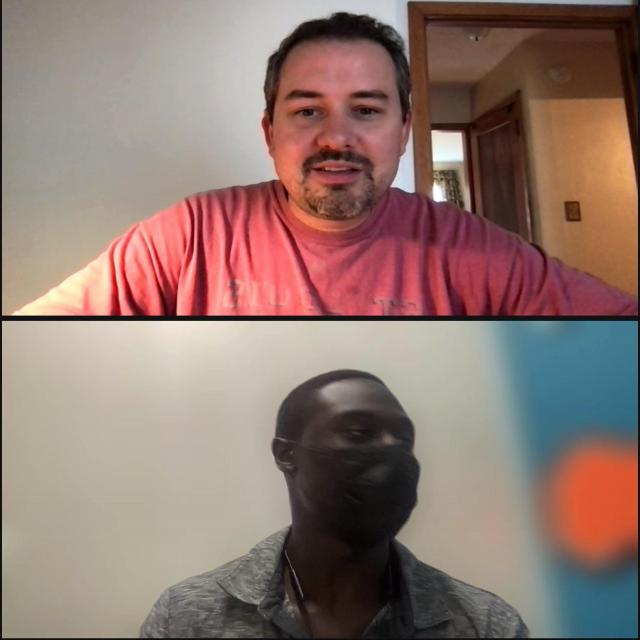face: (260, 36, 417, 223), (272, 376, 422, 548)
